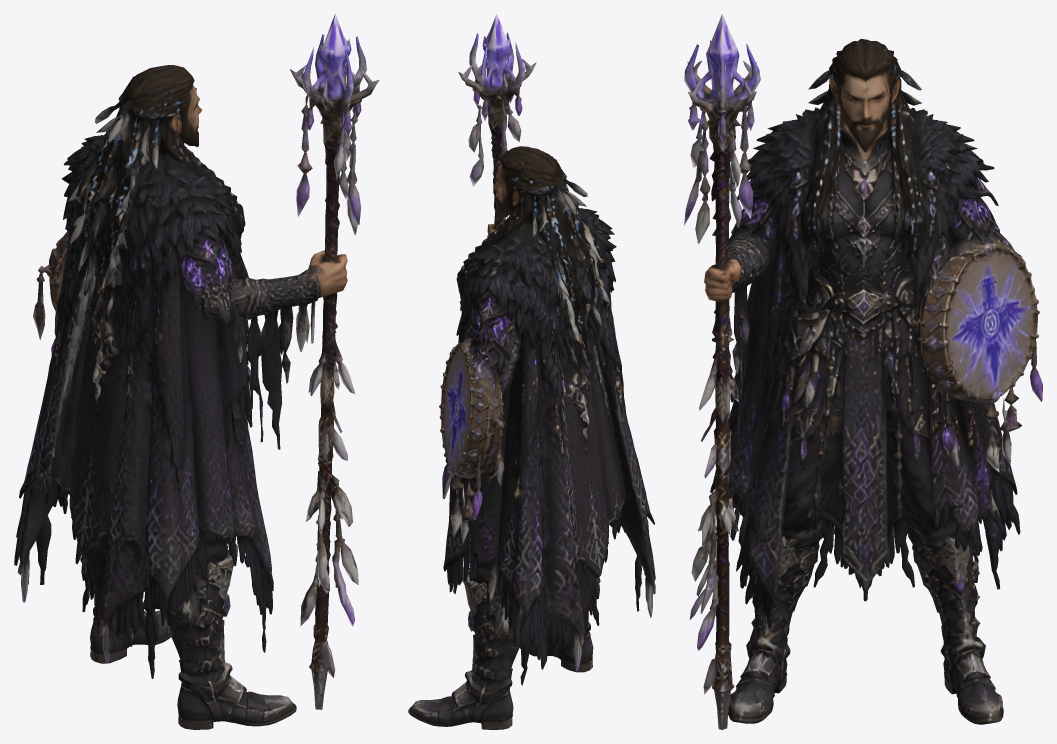
File: drumcalleralt-GraveWarden-tripo.glb
The picture shows the model from 3 angles, left to right: view 1: azimuth 30°, elevation 25°; view 2: azimuth 150°, elevation 25°; view 3: azimuth 270°, elevation 25°; orthographic projection. The views are drawn at different scales.
Visible parts, largest first — view 1: tripo_node_1583c4ff-17e3-4114-82fd-58f8128d6684; view 2: tripo_node_1583c4ff-17e3-4114-82fd-58f8128d6684; view 3: tripo_node_1583c4ff-17e3-4114-82fd-58f8128d6684.
Boxes of the visible parts, bbox=[...] form: tripo_node_1583c4ff-17e3-4114-82fd-58f8128d6684: bbox=[14, 14, 379, 729]; tripo_node_1583c4ff-17e3-4114-82fd-58f8128d6684: bbox=[408, 14, 655, 729]; tripo_node_1583c4ff-17e3-4114-82fd-58f8128d6684: bbox=[684, 14, 1042, 729].
Size of the model in its own units: 0.3592 by 1 by 0.4448.
Materials: 1 (1 with a texture image).
